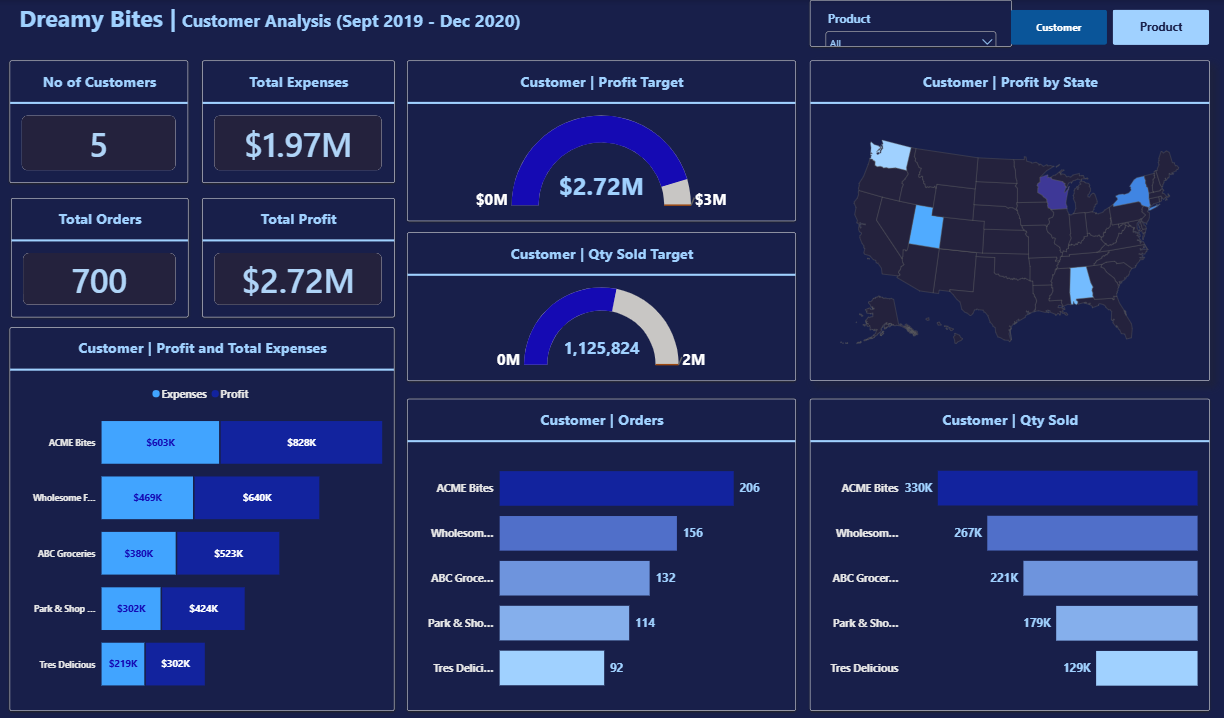

The dashboard page shown, as its layout file describes it:
{"tool":"powerbi","page":{"name":"Customer","canvas":[1700,1000],"ordinal":0},"visuals":[{"type":"shapeMap","title":"Customer | Profit by State","fields":{"Category":["Customers_Dim.State"],"Value":["Sum(Order_fact.Profit)"]},"box":[1125.1,84,555.8,445.1],"z":0},{"type":"clusteredBarChart","title":"Customer | Orders","fields":{"Y":["Calc_Measures Table.Total Orders"],"Category":["Customers_Dim.Name"]},"box":[565.4,553.9,540.6,433.6],"z":1000},{"type":"clusteredBarChart","title":"Customer | Qty Sold ","fields":{"Category":["Customers_Dim.Name"],"Y":["Calc_Measures Table.Total Qty Sold"]},"box":[1125.1,553.9,555.8,433.6],"z":2000},{"type":"barChart","title":"Customer | Profit and Total Expenses ","fields":{"Y":["Calc_Measures Table.Total Expenses","Calc_Measures Table.Total Profit"],"Category":["Customers_Dim.Name"]},"box":[13.4,454.6,534.8,532.9],"z":3000},{"type":"cardVisual","title":"No of Customers","fields":{"Data":["Calc_Measures Table.No of Customers"]},"box":[13.4,84,248.3,170],"z":4000},{"type":"cardVisual","title":"Total Expenses","fields":{"Data":["Calc_Measures Table.Total Expenses"]},"box":[280.8,84,267.4,170],"z":5000},{"type":"cardVisual","title":"Total Orders","fields":{"Data":["Calc_Measures Table.Total Orders"]},"box":[15.3,275.1,246.4,166.2],"z":6000},{"type":"cardVisual","title":"Total Profit","fields":{"Data":["Calc_Measures Table.Total Profit"]},"box":[280.8,275.1,267.4,166.2],"z":7000},{"type":"gauge","title":"Customer | Profit Target","fields":{"Y":["Calc_Measures Table.Total Profit"]},"box":[565.4,84,540.6,223.5],"z":8000},{"type":"gauge","title":"Customer | Qty Sold Target","fields":{"Y":["Calc_Measures Table.Total Qty Sold"]},"box":[565.4,322.8,540.6,206.3],"z":9000},{"type":"textbox","box":[26.7,3.8,735.4,66.9],"z":10000},{"type":"slicer","fields":{"Values":["Order_fact.Product"]},"box":[1125.1,0,280.8,64.9],"z":11000},{"type":"pageNavigator","box":[1403.9,13.4,277,49.7],"z":12000}]}

Visuals, with their boxes in screenshot pixels (x1, y1, x2, y2), scaled from the page's 1700x1000 canvas onto the 1224x718 screenshot:
"Customer | Profit by State" shapeMap: [x1=810, y1=60, x2=1210, y2=380]
"Customer | Orders" clusteredBarChart: [x1=407, y1=398, x2=796, y2=709]
"Customer | Qty Sold " clusteredBarChart: [x1=810, y1=398, x2=1210, y2=709]
"Customer | Profit and Total Expenses " barChart: [x1=10, y1=326, x2=395, y2=709]
"No of Customers" cardVisual: [x1=10, y1=60, x2=188, y2=182]
"Total Expenses" cardVisual: [x1=202, y1=60, x2=395, y2=182]
"Total Orders" cardVisual: [x1=11, y1=198, x2=188, y2=317]
"Total Profit" cardVisual: [x1=202, y1=198, x2=395, y2=317]
"Customer | Profit Target" gauge: [x1=407, y1=60, x2=796, y2=221]
"Customer | Qty Sold Target" gauge: [x1=407, y1=232, x2=796, y2=380]
textbox: [x1=19, y1=3, x2=549, y2=51]
slicer - Order_fact.Product: [x1=810, y1=0, x2=1012, y2=47]
pageNavigator: [x1=1011, y1=10, x2=1210, y2=45]
